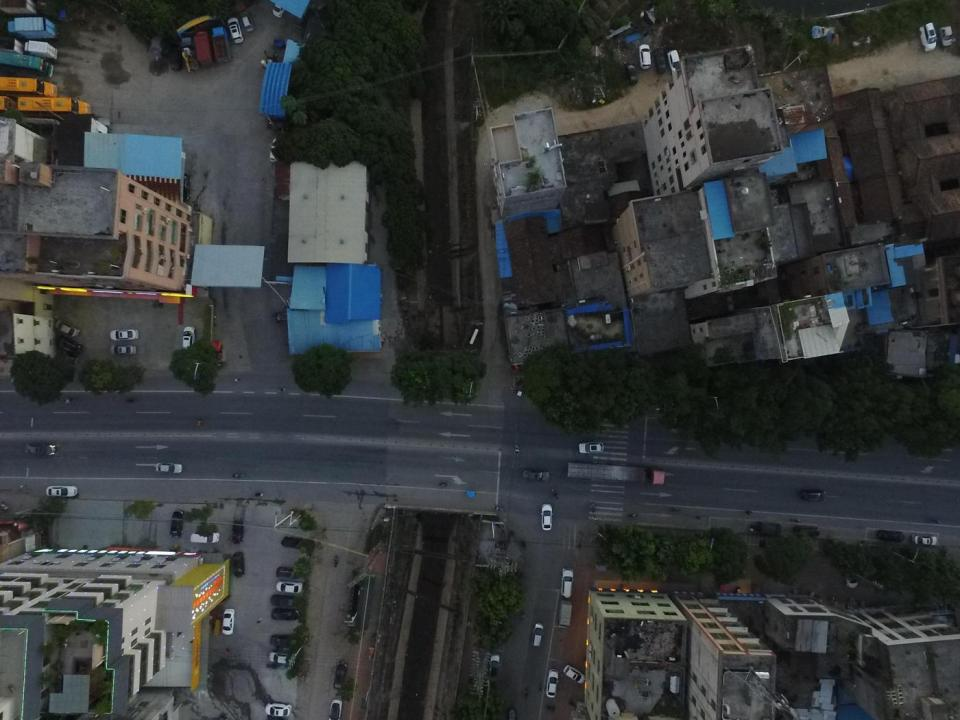bus: (15, 96, 92, 118), (0, 48, 54, 76), (0, 75, 58, 97)
car: (54, 319, 80, 338), (332, 660, 348, 690), (264, 700, 292, 717), (25, 442, 56, 457), (227, 16, 243, 44), (563, 664, 585, 684), (560, 567, 574, 598), (269, 634, 299, 648), (558, 599, 572, 629), (170, 509, 184, 538), (545, 669, 559, 698), (46, 485, 77, 498), (221, 608, 235, 636), (799, 489, 827, 503), (876, 528, 904, 542), (109, 328, 139, 341), (280, 535, 306, 550), (270, 608, 300, 621), (637, 43, 652, 69), (522, 468, 549, 482), (541, 503, 554, 532), (269, 649, 294, 664), (59, 338, 82, 354), (270, 594, 298, 607), (624, 60, 638, 86), (578, 441, 604, 455), (232, 551, 245, 578), (275, 580, 302, 593), (794, 525, 821, 538), (276, 566, 301, 580), (182, 325, 195, 351), (531, 622, 544, 648), (911, 533, 937, 546), (757, 523, 783, 536), (489, 652, 500, 682), (232, 519, 245, 544), (109, 344, 136, 356), (155, 462, 182, 474), (667, 50, 680, 74), (845, 564, 858, 588), (328, 698, 342, 720), (272, 0, 288, 18), (654, 49, 666, 73), (270, 139, 281, 163), (240, 11, 252, 32), (508, 708, 516, 720)
truck: (567, 461, 665, 487), (7, 17, 57, 39), (193, 30, 216, 69), (210, 26, 232, 63), (22, 41, 59, 60)
van: (190, 531, 220, 544)
